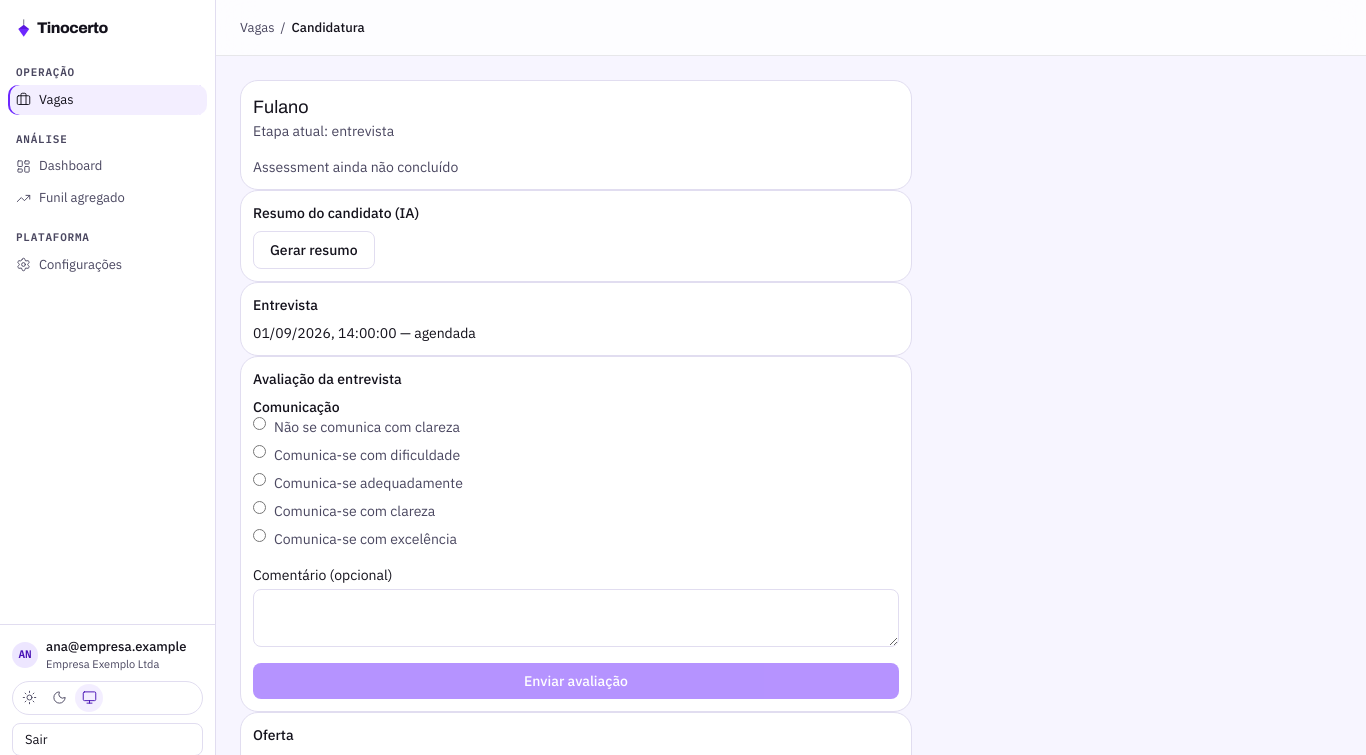
Scenario: CandidaturaPage › envia a avaliacao com a nota escolhida por competencia e mostra o estado enviado
Expected: the text "Comunica-se com excelência" is shown, x1=253 y1=529 x2=457 y2=548
Click the radio button labelled "Comunica-se com excelência".
click(260, 536)  # box x1=253 y1=529 x2=266 y2=542
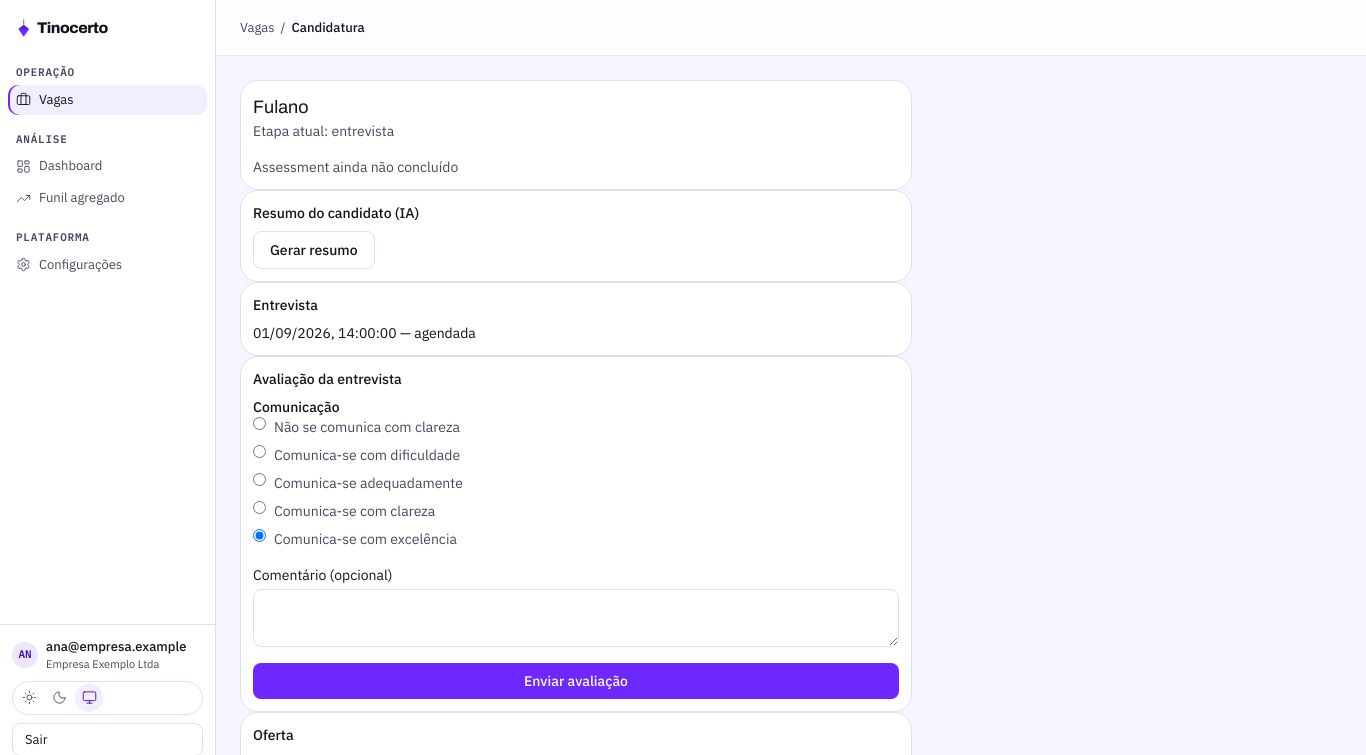
Click the button "Enviar avaliação".
click(576, 681)  # box x1=253 y1=663 x2=899 y2=699
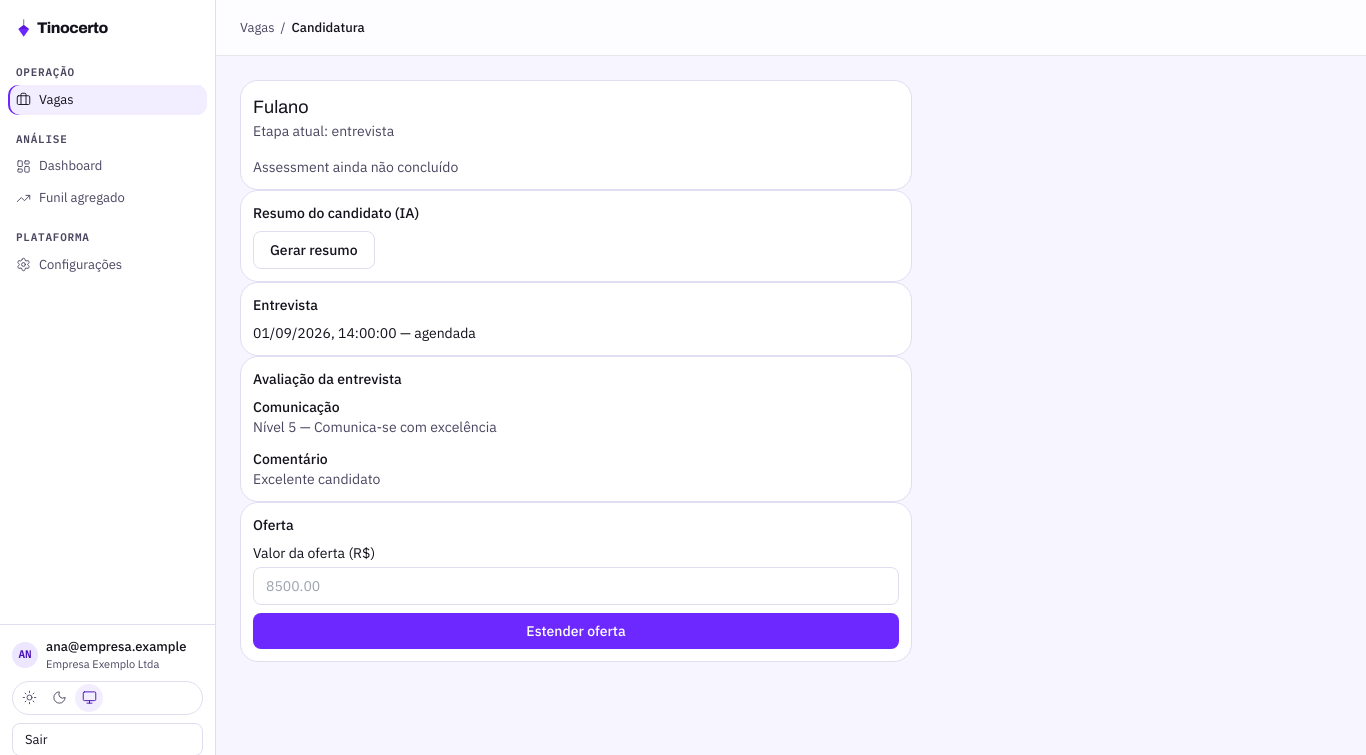
Expected: the button "Enviar avaliação" is gone
Expected: the text "Nível 5 — Comunica-se com excelência" is shown, x1=253 y1=418 x2=497 y2=436
